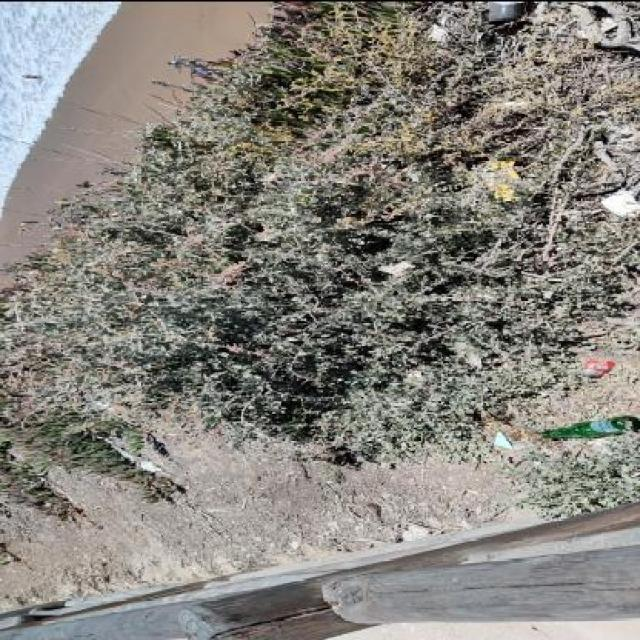glass: (541, 414, 639, 437)
